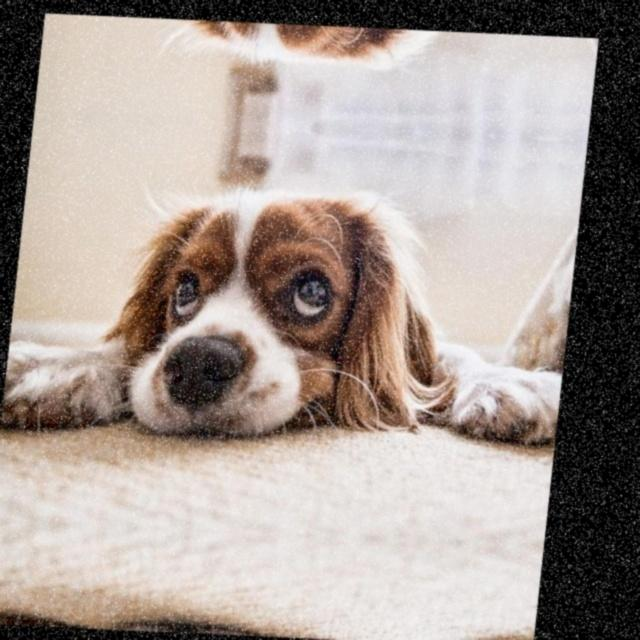dog: (90, 152, 456, 461), (129, 18, 470, 100), (70, 605, 406, 640)
